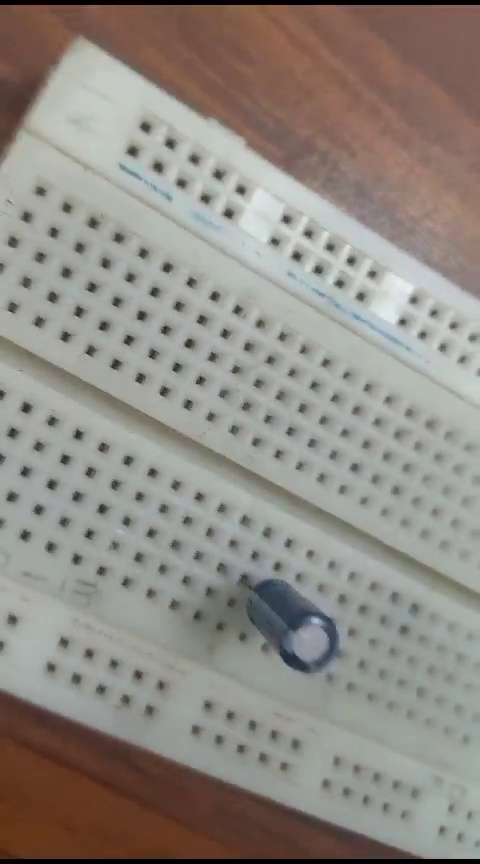capacitor: (235, 549, 340, 685)
